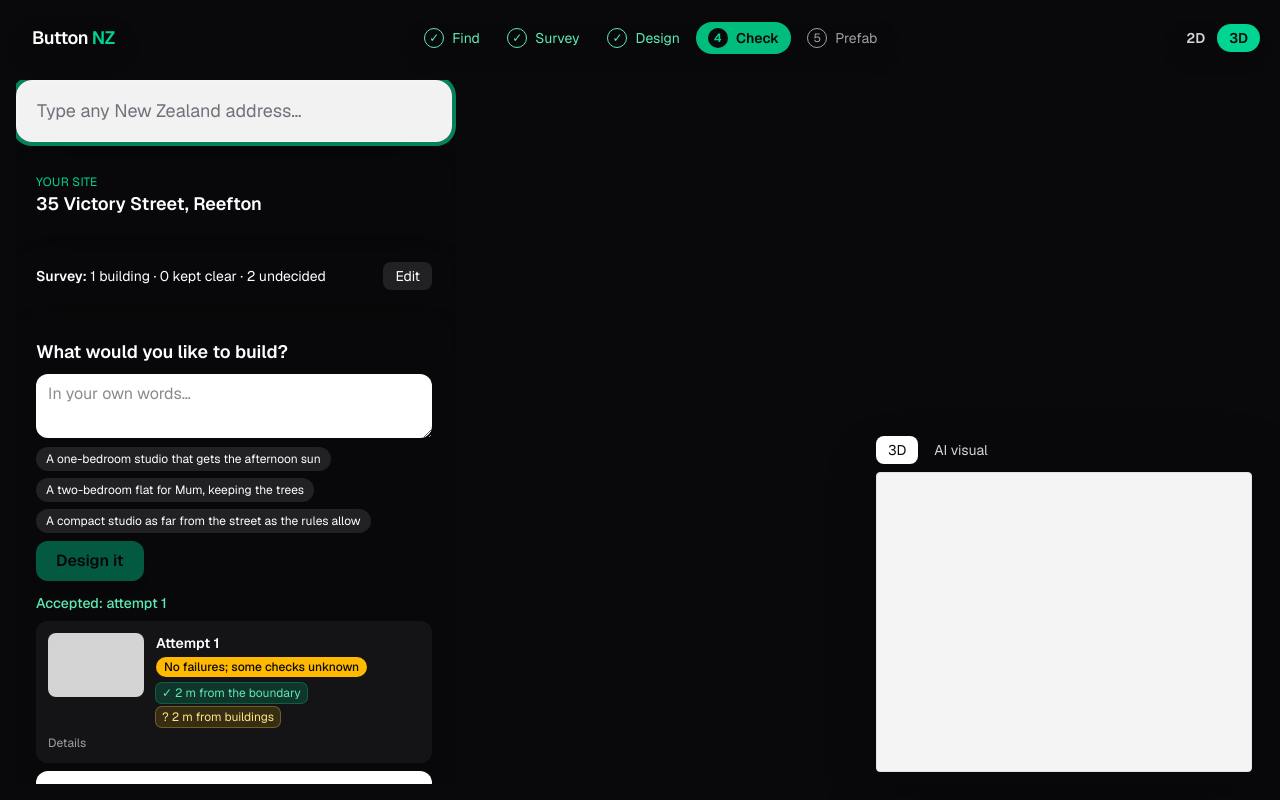
Test: a ready site › says a design's checks may not hold once the survey changes, and drops a site map that can't refresh
Expected: the text "Accepted: attempt 1" is shown, [36, 594, 167, 612]
Expected: the text "survey changed" is not shown
Click the button "Edit": click(408, 276) [383, 262, 432, 290]
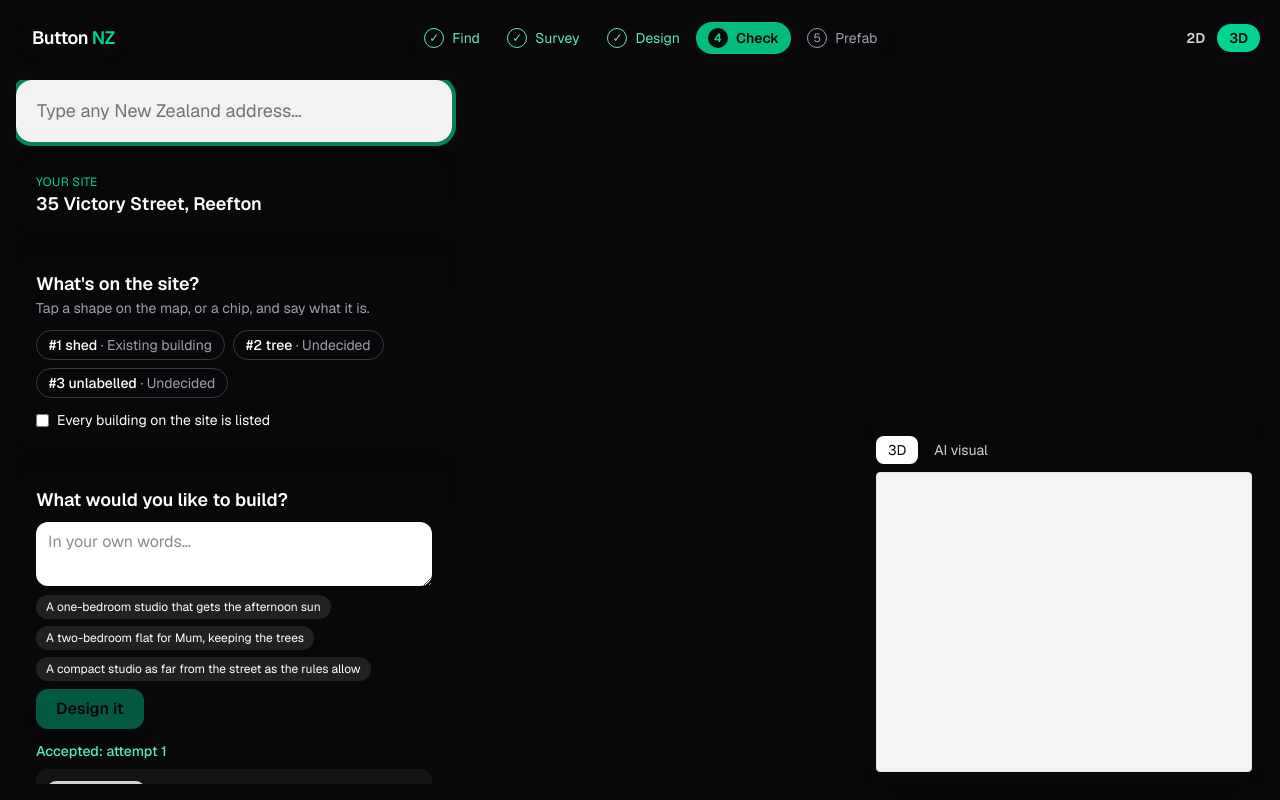
Click the button "#2 tree · Undecided": click(308, 345) [233, 330, 384, 360]
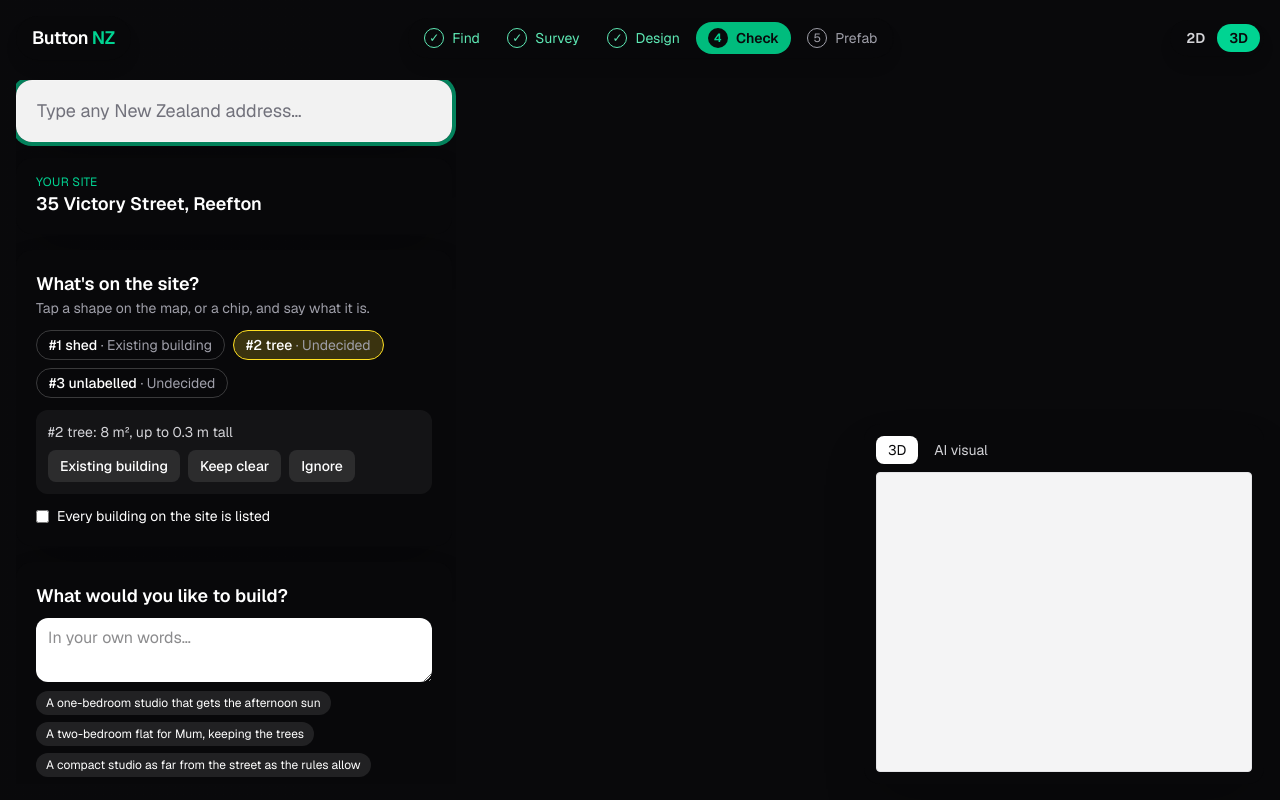
Click the button "Existing building": click(114, 466) [48, 450, 180, 482]
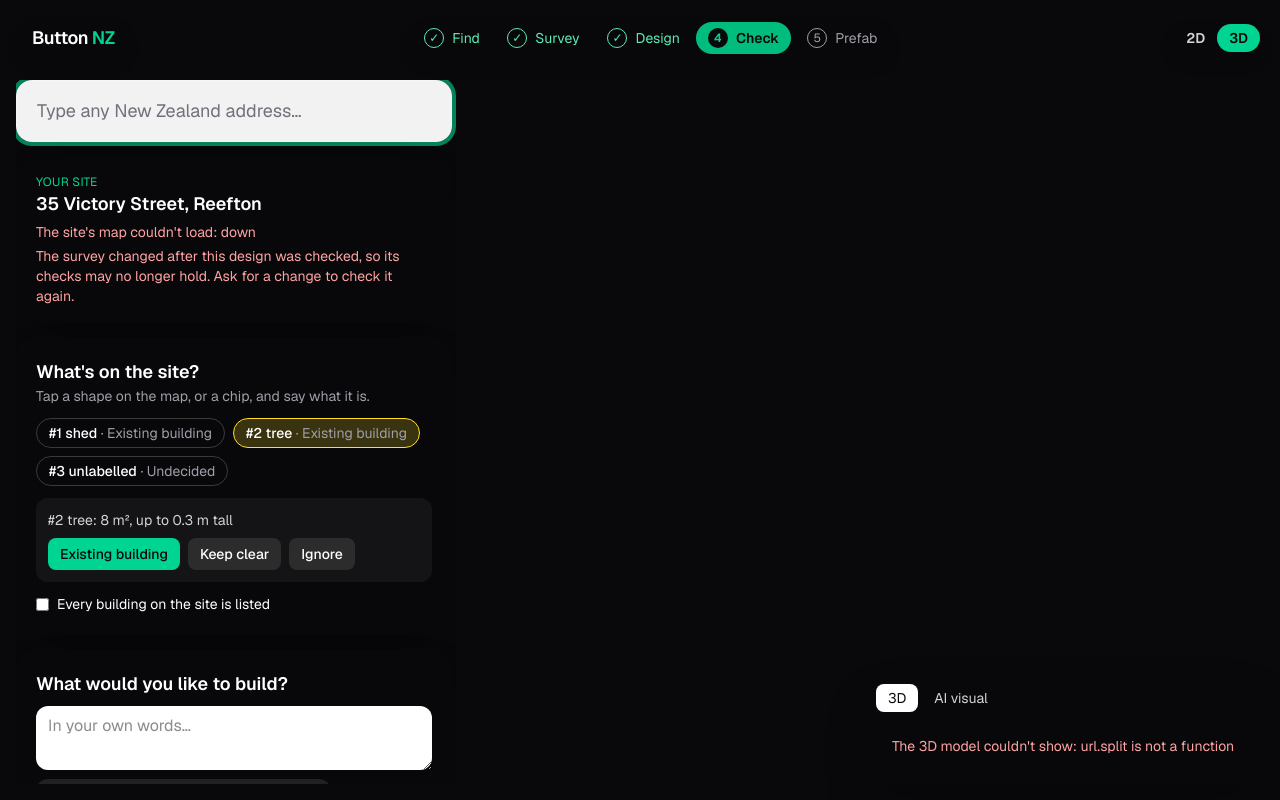
Expected: the text "survey changed after this design" is shown, [36, 247, 399, 305]
Expected: the text "The site's map couldn't load: down" is shown, [36, 223, 256, 241]
